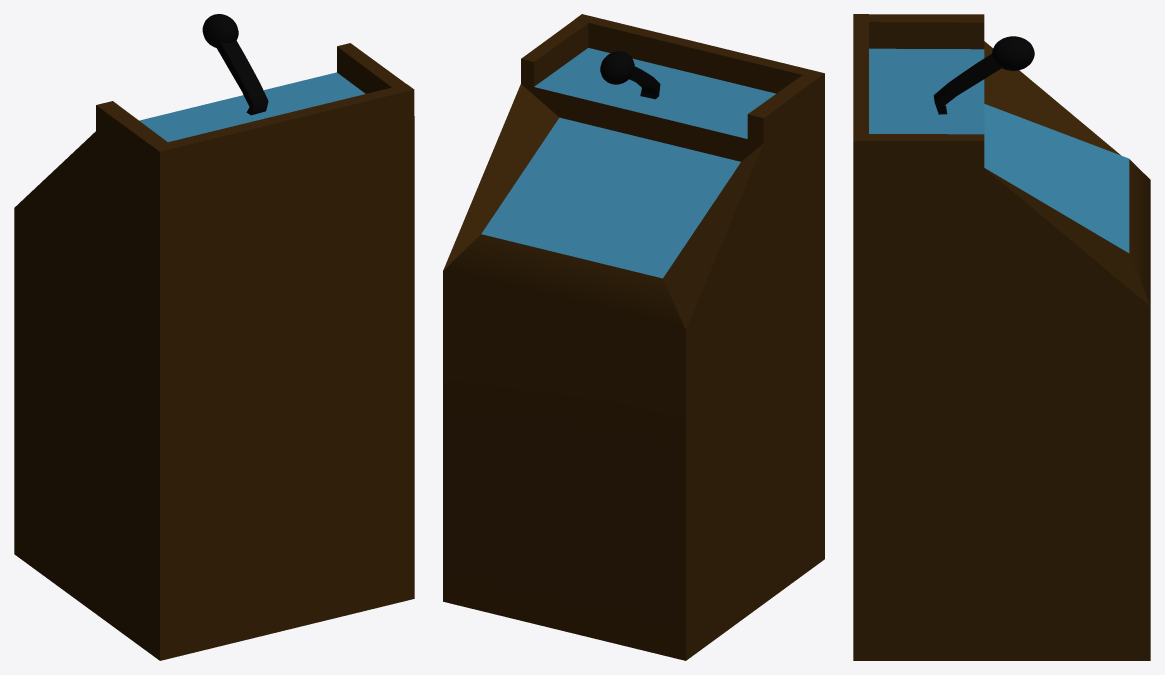
Rendered from podium.fbx.
3 renders of one model, left to right at view 1: azimuth 30°, elevation 25°; view 2: azimuth 150°, elevation 25°; view 3: azimuth 270°, elevation 25°, orthographic. The views are drawn at different scales.
Visible parts, largest first — view 1: pCube3; view 2: pCube3; view 3: pCube3.
Part boxes in pixels (x1,y1,x2,y2): pCube3: [14, 14, 414, 660]; pCube3: [443, 14, 824, 660]; pCube3: [853, 14, 1150, 660].
Size of the model in its own units: 1 by 2.08 by 0.991.
